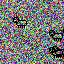sheep: (13, 17, 28, 29), (49, 30, 64, 41)
